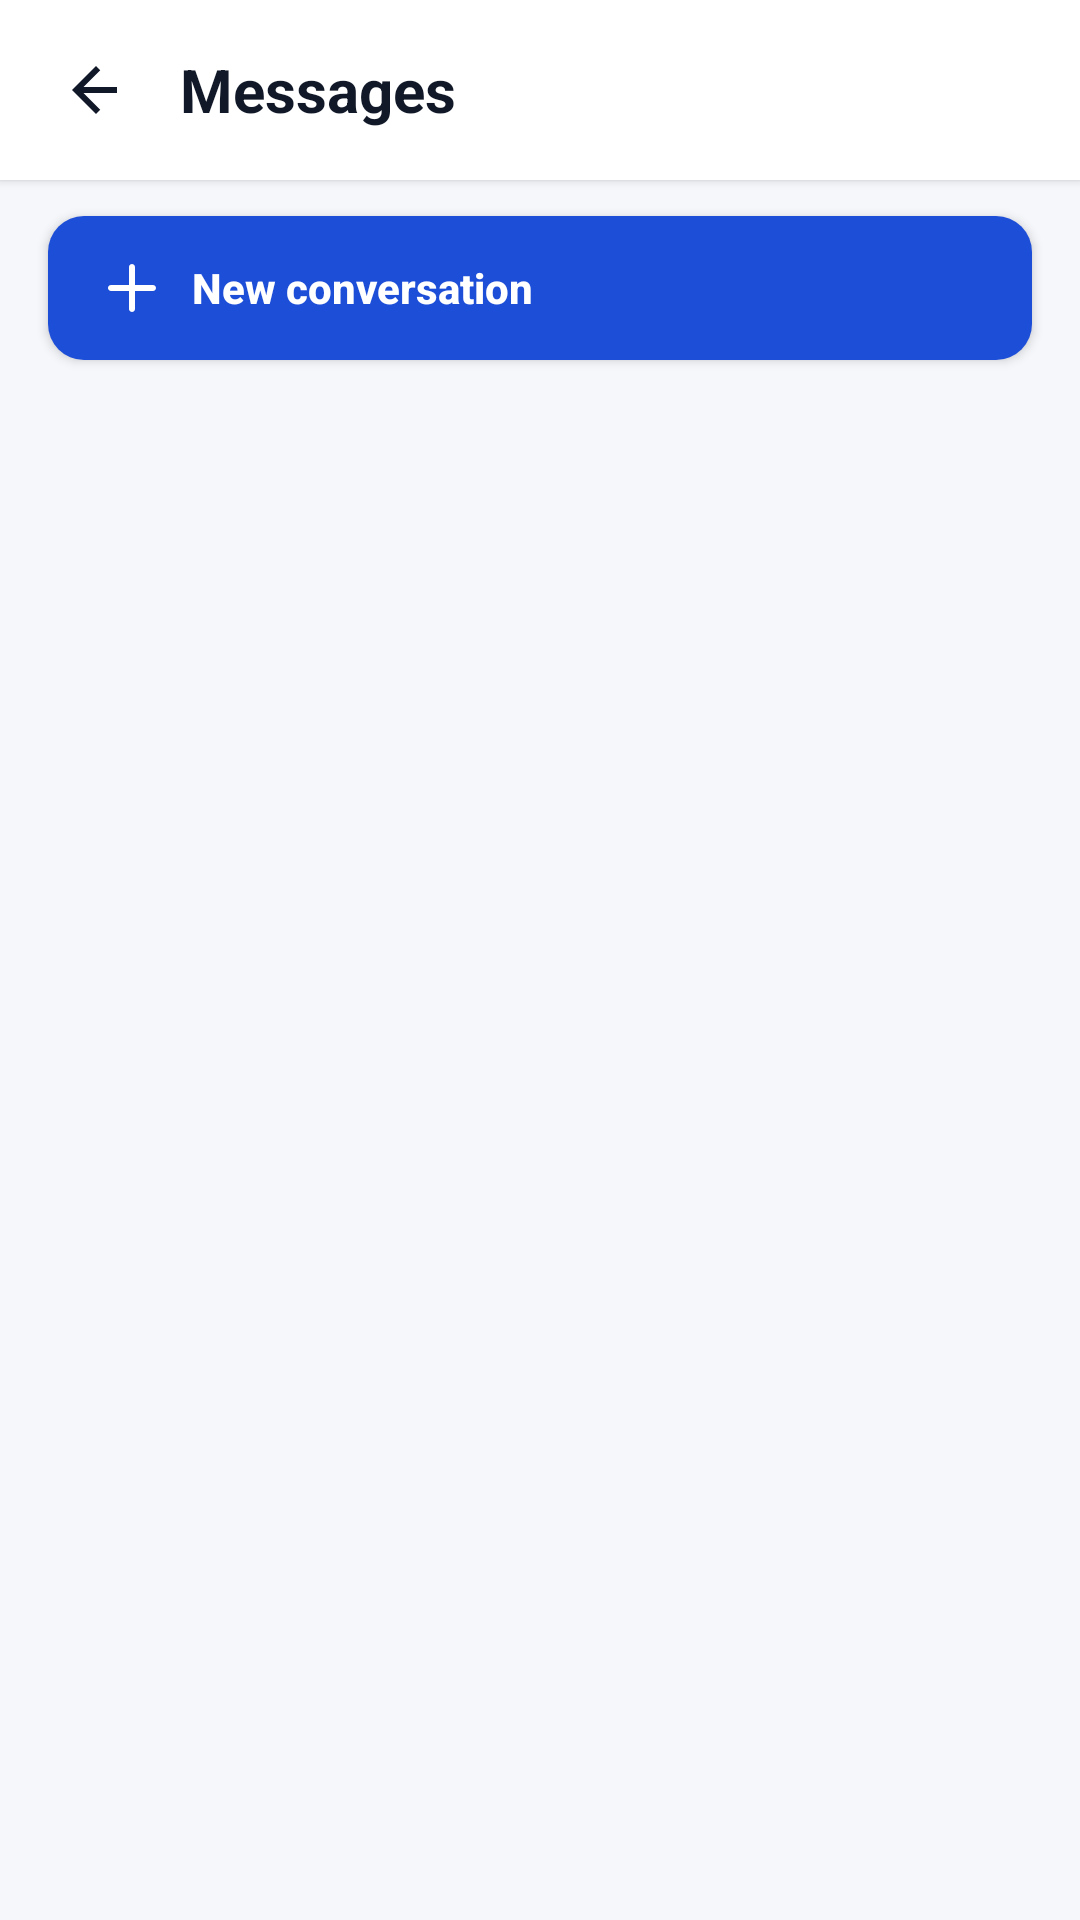

Where icons sit on this 1080*1920 app screen, as box(x1, y1, x2, y2):
Back: box(72, 66, 117, 114)
